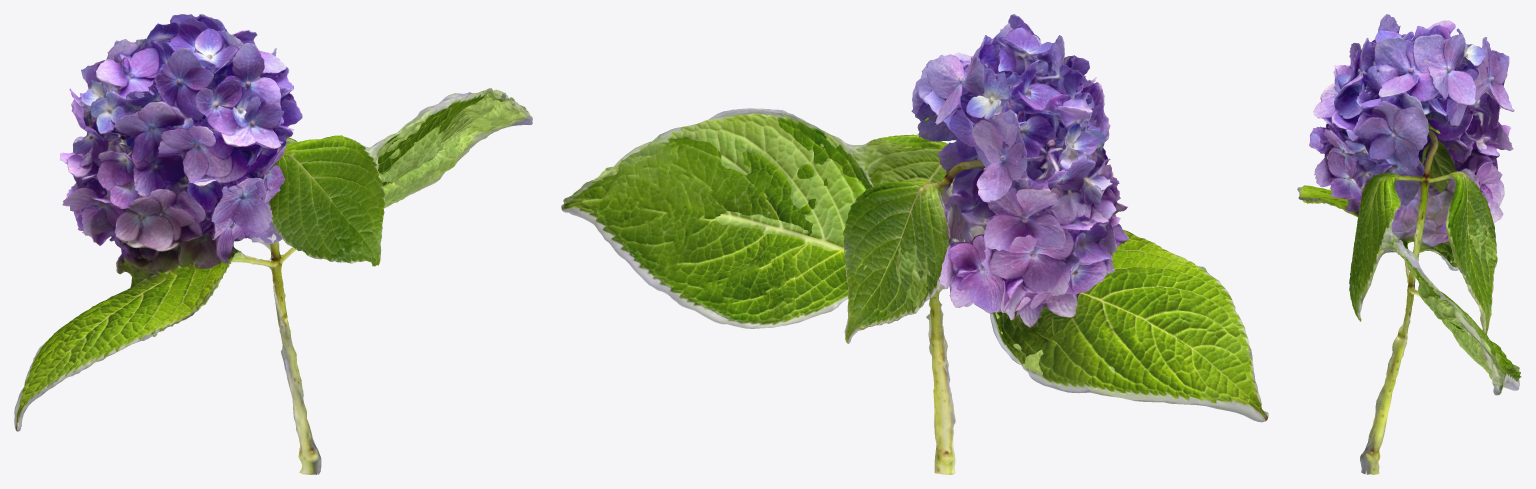
Rendered from hydrangea_purple.glb.
3 renders of one model, left to right at view 1: azimuth 30°, elevation 25°; view 2: azimuth 150°, elevation 25°; view 3: azimuth 270°, elevation 25°, orthographic. The views are drawn at different scales.
Visible parts, largest first — view 1: Object_2; view 2: Object_2; view 3: Object_2.
Boxes of the visible parts, x1,y1,x2,y2 form: Object_2: (14, 14, 532, 474); Object_2: (561, 14, 1268, 474); Object_2: (1297, 14, 1521, 474).
Size of the model in its own units: 0.3002 by 0.2175 by 0.1086.
1 material, 1 textured.
